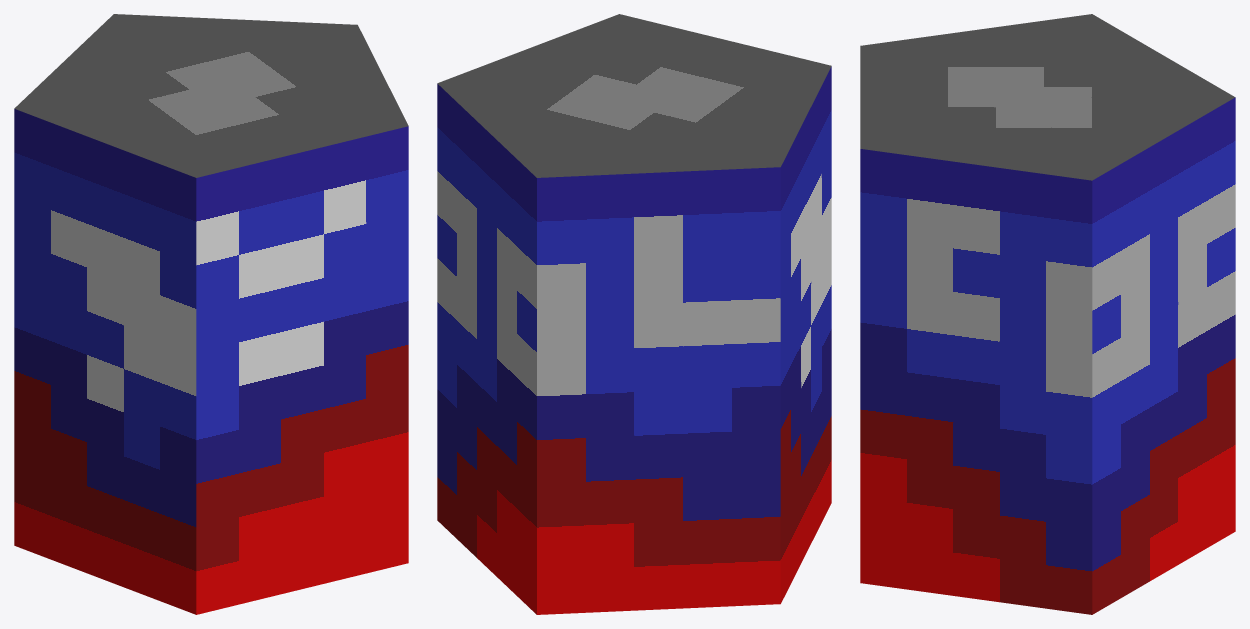
Rendered from item_cool.obj.
The picture shows the model from 3 angles, left to right: view 1: azimuth 30°, elevation 25°; view 2: azimuth 150°, elevation 25°; view 3: azimuth 270°, elevation 25°; orthographic projection.
Visible parts, largest first — view 1: cylinder; view 2: cylinder; view 3: cylinder.
Part boxes in pixels (x1,y1,x2,y2): cylinder: [14, 14, 408, 614]; cylinder: [437, 14, 831, 614]; cylinder: [860, 14, 1235, 614].
Size of the model in its own units: 0.5143 by 0.625 by 0.4891.
1 material, 1 textured.
